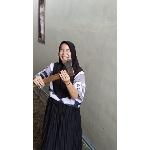Kapak: (32, 56, 77, 86)
